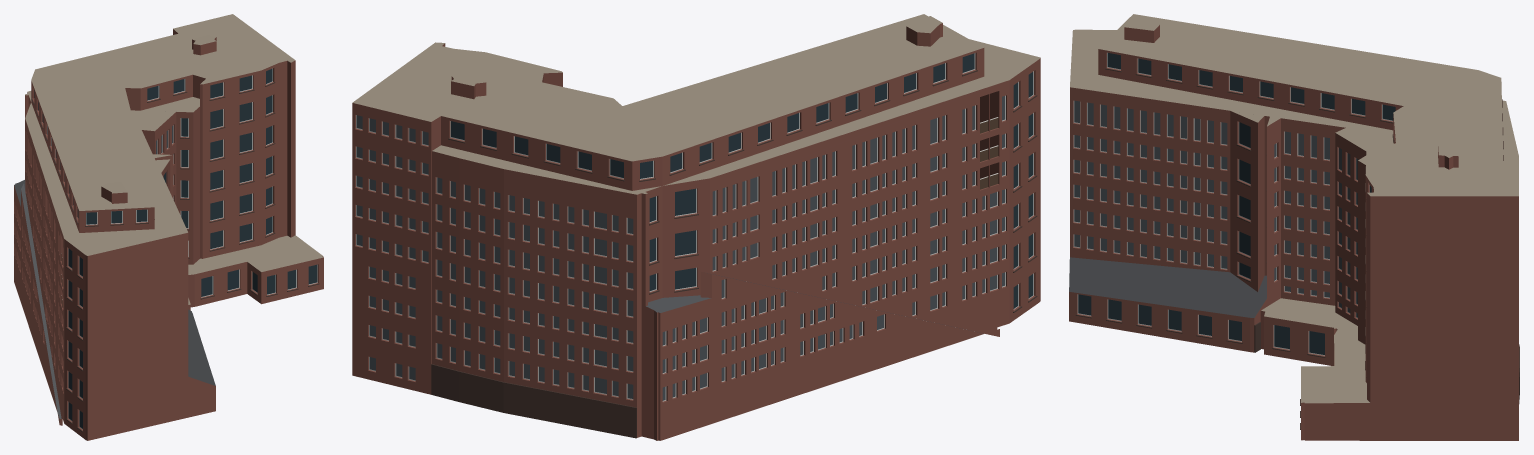
File: recipe-large-haarlemmerweg-285-097137.glb
3 views of the same model, side by side, from view 1: azimuth 30°, elevation 25°; view 2: azimuth 150°, elevation 25°; view 3: azimuth 270°, elevation 25° (orthographic). The views are drawn at different scales.
Visible parts, largest first — view 1: haarlemmerweg-285-097137; view 2: haarlemmerweg-285-097137; view 3: haarlemmerweg-285-097137.
Part boxes in pixels (box(x1,y1,x2,y2)): haarlemmerweg-285-097137: box(14, 14, 323, 440); haarlemmerweg-285-097137: box(352, 14, 1040, 440); haarlemmerweg-285-097137: box(1069, 14, 1519, 440).
Size of the model in its own units: 43.4 by 27.73 by 42.78.
